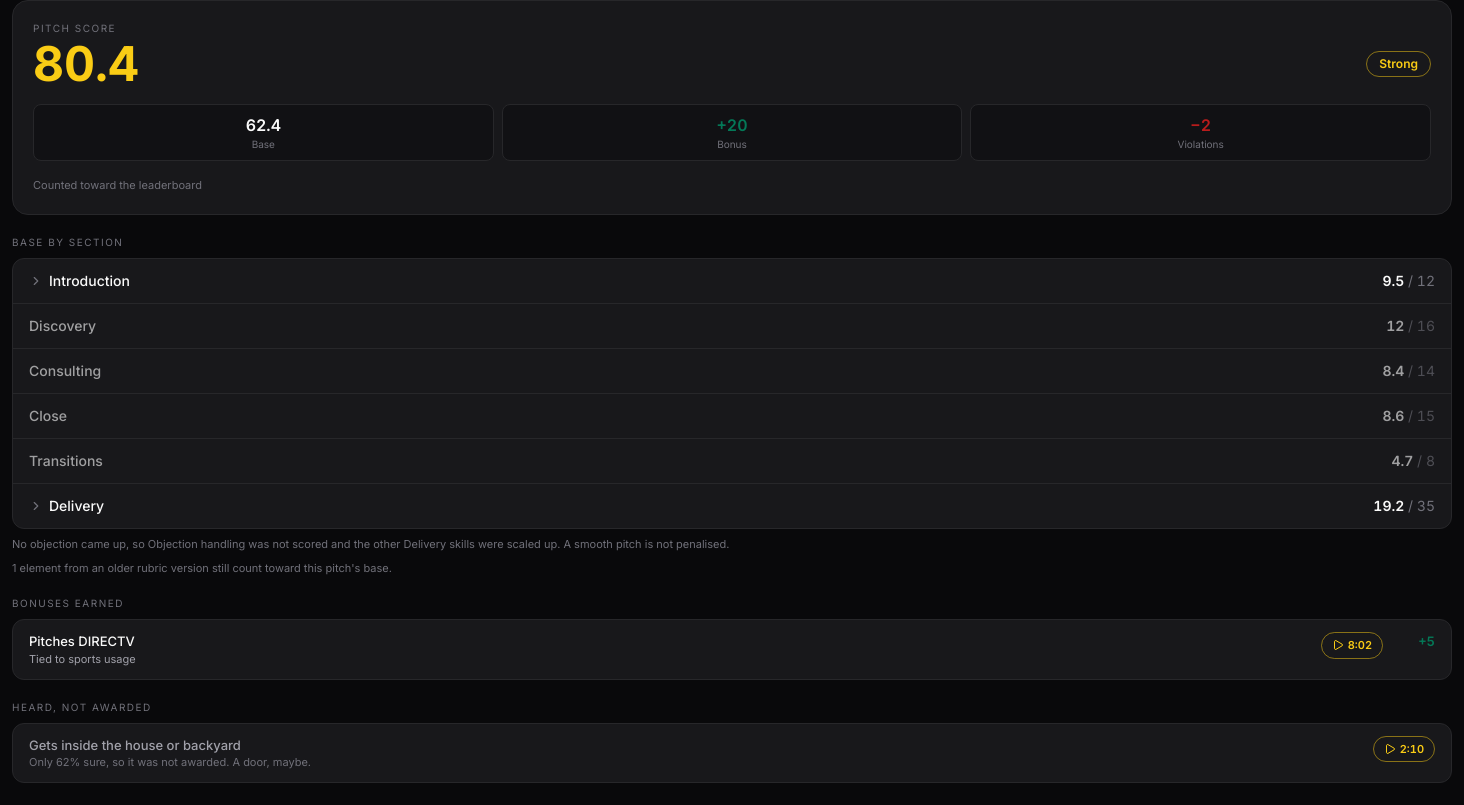
Scenario: element detail › opens a section to grade, evidence, moment and points
Click the button "Delivery 19.2 / 35": point(77, 505) [13,484,1451,528]
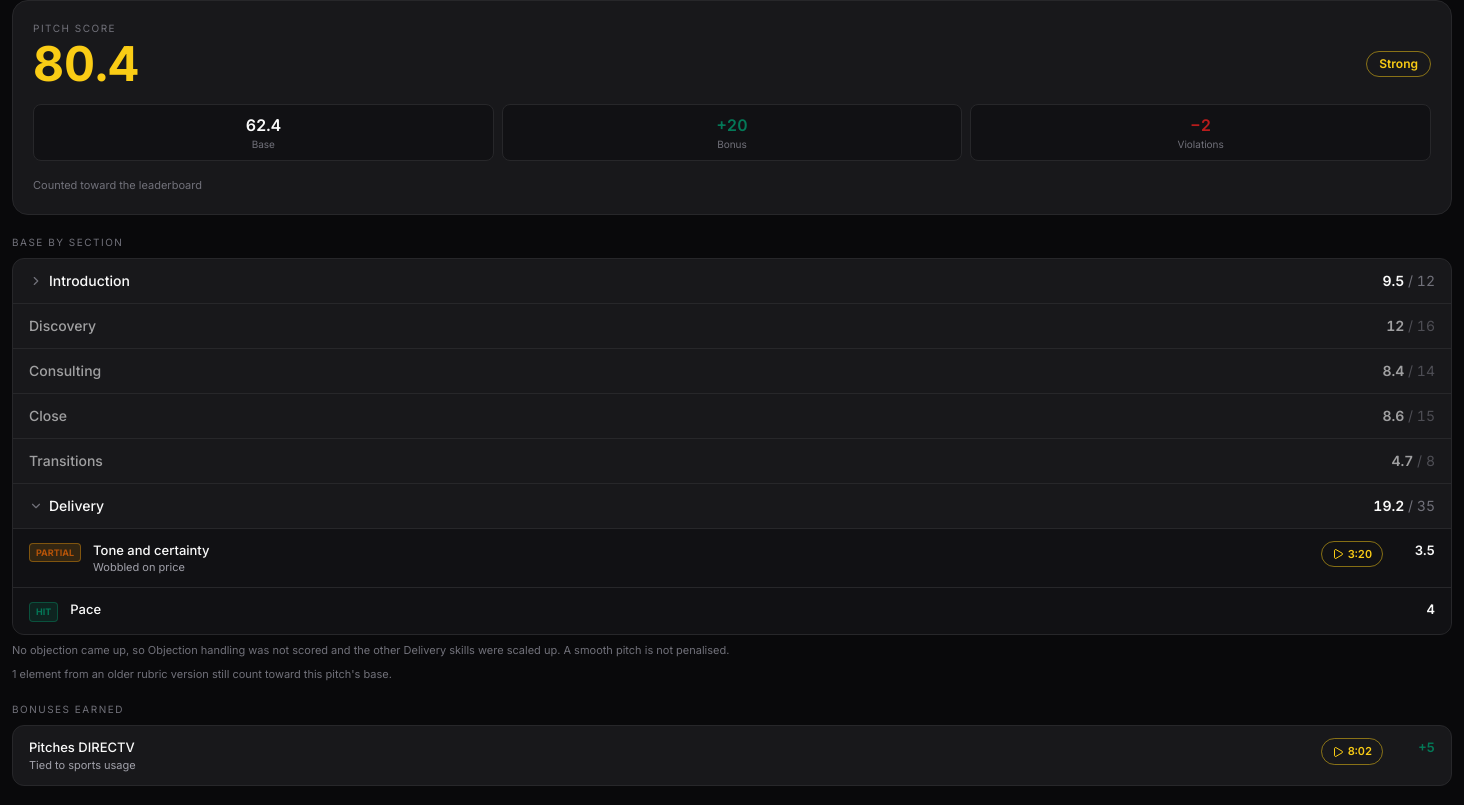
Expected: the text "Tone and certainty" is shown, [93,542,210,558]
Expected: the text "Wobbled on price" is shown, [93,560,185,574]
Expected: the button named "Play from 3:20" is shown, [1321,540,1383,567]
